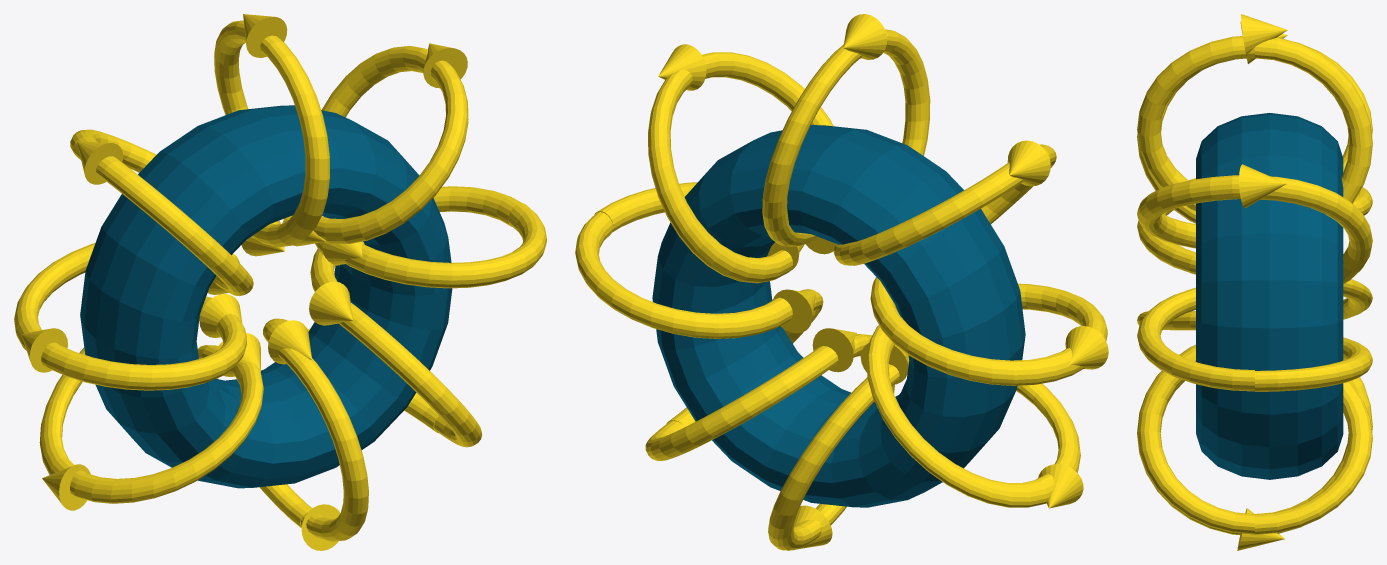
The model's file is Full Toroid.obj.
3 views of the same model, side by side, from view 1: azimuth 30°, elevation 25°; view 2: azimuth 150°, elevation 25°; view 3: azimuth 270°, elevation 25° (orthographic). The views are drawn at different scales.
Parts seen in each view (by area): view 1: group_0_16768282, group_0_23418; view 2: group_0_16768282, group_0_23418; view 3: group_0_23418, group_0_16768282.
Part boxes in pixels (x1,y1,x2,y2): group_0_16768282: (14, 14, 546, 550); group_0_23418: (80, 105, 452, 488); group_0_16768282: (575, 14, 1108, 550); group_0_23418: (652, 125, 1025, 507); group_0_23418: (1196, 113, 1343, 479); group_0_16768282: (1137, 14, 1372, 550).
Bounding box in the file's own units: 37 × 38 × 16.
